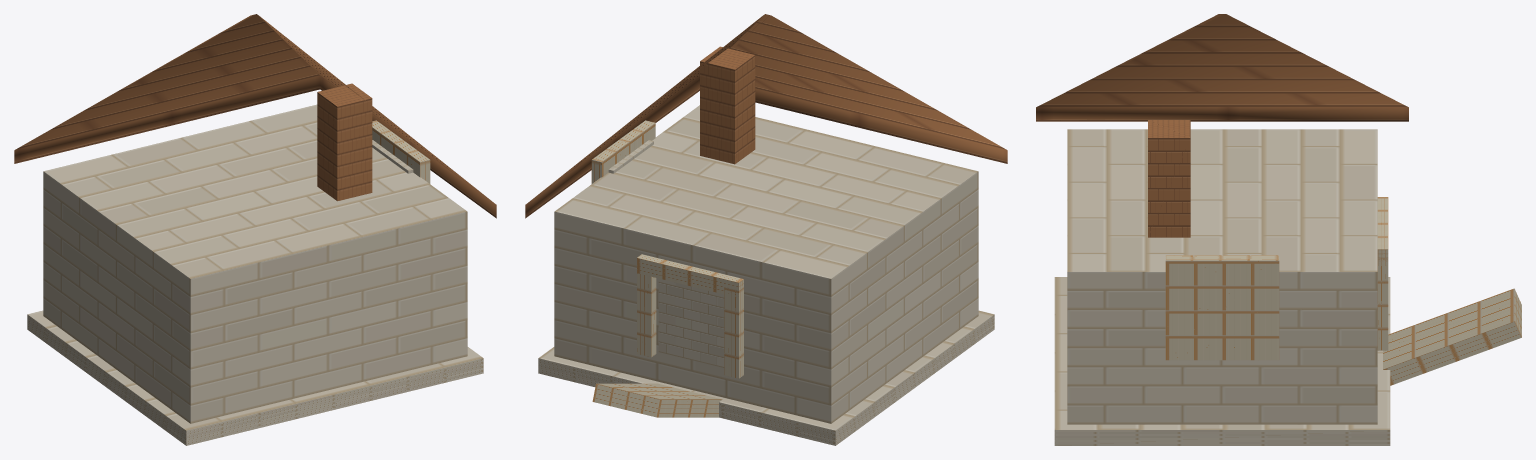
Rendered from coop.gltf.
The picture shows the model from 3 angles, left to right: view 1: azimuth 30°, elevation 25°; view 2: azimuth 150°, elevation 25°; view 3: azimuth 270°, elevation 25°; orthographic projection. The views are drawn at different scales.
Parts seen in each view (by area): view 1: coop; view 2: coop; view 3: coop.
Part boxes in pixels (x1,y1,x2,y2): coop: (14, 14, 496, 445); coop: (525, 14, 1007, 445); coop: (1036, 14, 1521, 445).
Bounding box in the file's own units: 2.1 × 2.2 × 2.74.
Materials: 3 (3 with a texture image).
